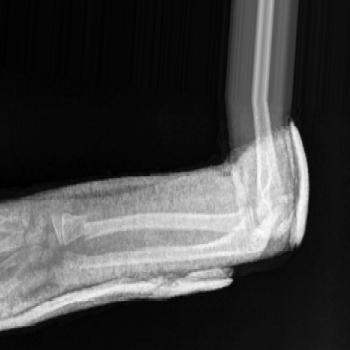Fracture: (79, 210, 91, 244)
